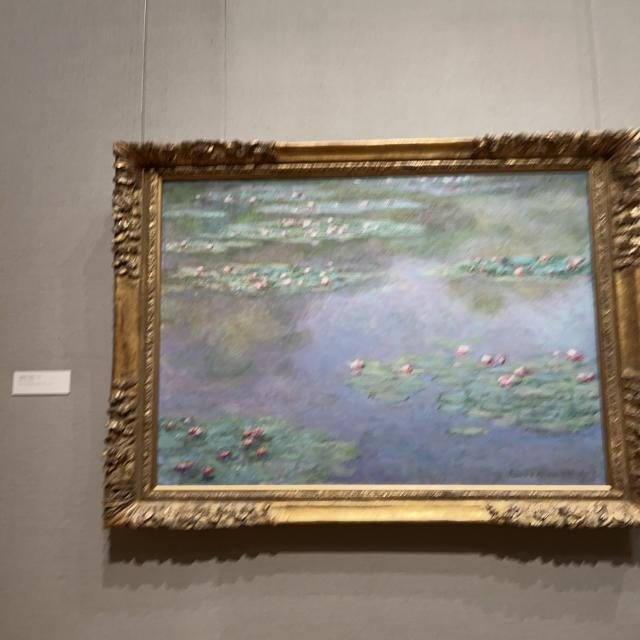lilies: (160, 174, 601, 483)
